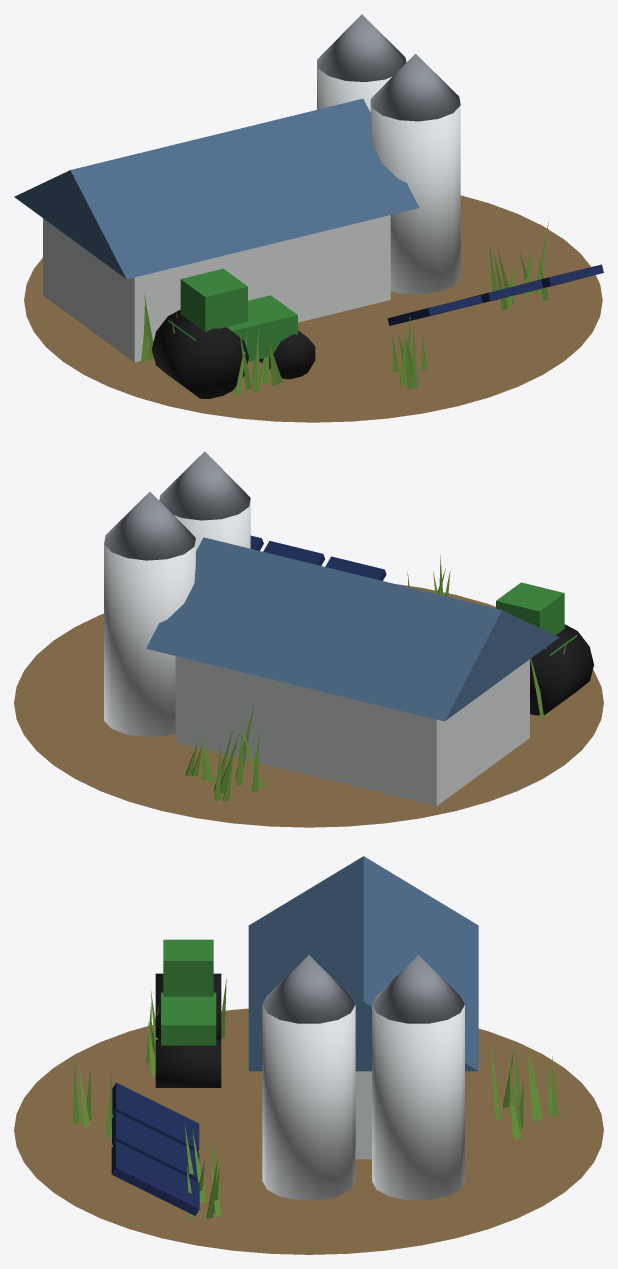
The model's file is improvement_farmhouse_3.fbx.
The picture shows the model from 3 angles, top to bottom: view 1: azimuth 30°, elevation 25°; view 2: azimuth 150°, elevation 25°; view 3: azimuth 270°, elevation 25°; orthographic projection.
Visible parts, largest first — view 1: improvement_farmhouse_3_gpatch#8a7048r.003_00, improvement_farmhouse_3_shedroof_03, improvement_farmhouse_3_shed_02, improvement_farmhouse_3_silo.001_04, improvement_farmhouse_3_silotop_05, improvement_farmhouse_3_tyre_07, improvement_farmhouse_3_tractor_06, improvement_farmhouse_3_leaf#6a9a3a.024_01, improvement_farmhouse_3_pv_08; view 2: improvement_farmhouse_3_shedroof_03, improvement_farmhouse_3_gpatch#8a7048r.003_00, improvement_farmhouse_3_shed_02, improvement_farmhouse_3_silo.001_04, improvement_farmhouse_3_silotop_05, improvement_farmhouse_3_tyre_07, improvement_farmhouse_3_leaf#6a9a3a.024_01, improvement_farmhouse_3_tractor_06, improvement_farmhouse_3_pv_08; view 3: improvement_farmhouse_3_gpatch#8a7048r.003_00, improvement_farmhouse_3_silo.001_04, improvement_farmhouse_3_shedroof_03, improvement_farmhouse_3_pv_08, improvement_farmhouse_3_silotop_05, improvement_farmhouse_3_tractor_06, improvement_farmhouse_3_leaf#6a9a3a.024_01, improvement_farmhouse_3_tyre_07, improvement_farmhouse_3_shed_02.
Part boxes in pixels (x1,y1,x2,y2): improvement_farmhouse_3_gpatch#8a7048r.003_00: (24,195,602,422); improvement_farmhouse_3_shedroof_03: (14,98,419,279); improvement_farmhouse_3_shed_02: (43,215,390,362); improvement_farmhouse_3_silo.001_04: (317,62,460,294); improvement_farmhouse_3_silotop_05: (317,14,460,121); improvement_farmhouse_3_tyre_07: (151,309,315,398); improvement_farmhouse_3_tractor_06: (168,268,297,361); improvement_farmhouse_3_leaf#6a9a3a.024_01: (141,221,548,396); improvement_farmhouse_3_pv_08: (387,264,603,325); improvement_farmhouse_3_shedroof_03: (146,537,559,721); improvement_farmhouse_3_gpatch#8a7048r.003_00: (14,584,603,827); improvement_farmhouse_3_shed_02: (175,656,529,806); improvement_farmhouse_3_silo.001_04: (104,499,250,737); improvement_farmhouse_3_silotop_05: (104,451,250,560); improvement_farmhouse_3_tyre_07: (530,624,593,715); improvement_farmhouse_3_leaf#6a9a3a.024_01: (103,555,567,801); improvement_farmhouse_3_tractor_06: (496,582,577,656); improvement_farmhouse_3_pv_08: (250,535,386,580); improvement_farmhouse_3_gpatch#8a7048r.003_00: (14,1008,603,1254); improvement_farmhouse_3_silo.001_04: (262,1005,464,1200); improvement_farmhouse_3_shedroof_03: (248,856,478,1071); improvement_farmhouse_3_pv_08: (111,1082,199,1215); improvement_farmhouse_3_silotop_05: (262,955,464,1023); improvement_farmhouse_3_tractor_06: (161,939,216,1045); improvement_farmhouse_3_leaf#6a9a3a.024_01: (73,978,558,1218); improvement_farmhouse_3_tyre_07: (155,973,221,1087); improvement_farmhouse_3_shed_02: (355,1071,371,1159).
Bounding box in the file's own units: 108 × 46.26 × 108.
